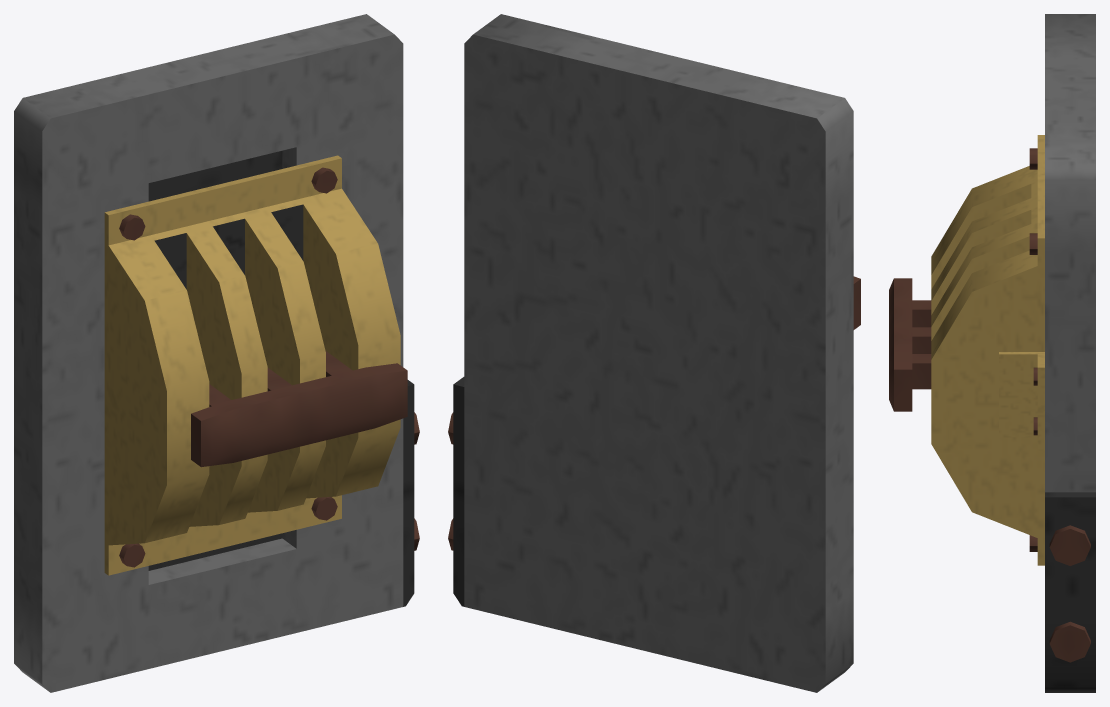
File: Lever.fbx
3 views of the same model, side by side, from view 1: azimuth 30°, elevation 25°; view 2: azimuth 150°, elevation 25°; view 3: azimuth 270°, elevation 25° (orthographic). The views are drawn at different scales.
Parts seen in each view (by area): view 1: Cylinder.019; view 2: Cylinder.019; view 3: Cylinder.019.
Part boxes in pixels (box(x1,y1,x2,y2)): Cylinder.019: box(14, 14, 419, 692); Cylinder.019: box(448, 14, 860, 692); Cylinder.019: box(889, 14, 1095, 692).
Size of the model in its own units: 86.51 by 125 by 44.85.
